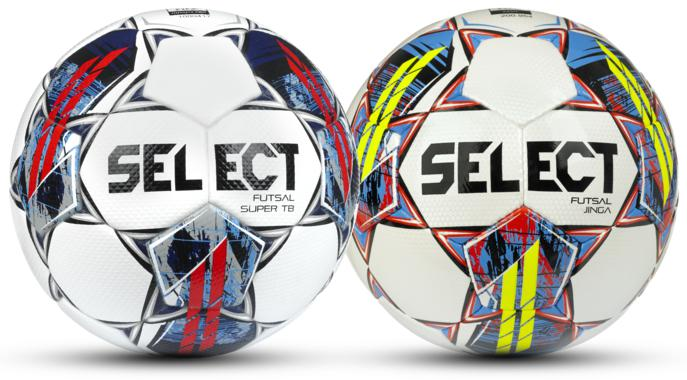sphere: (10, 8, 360, 358), (346, 9, 679, 355)
